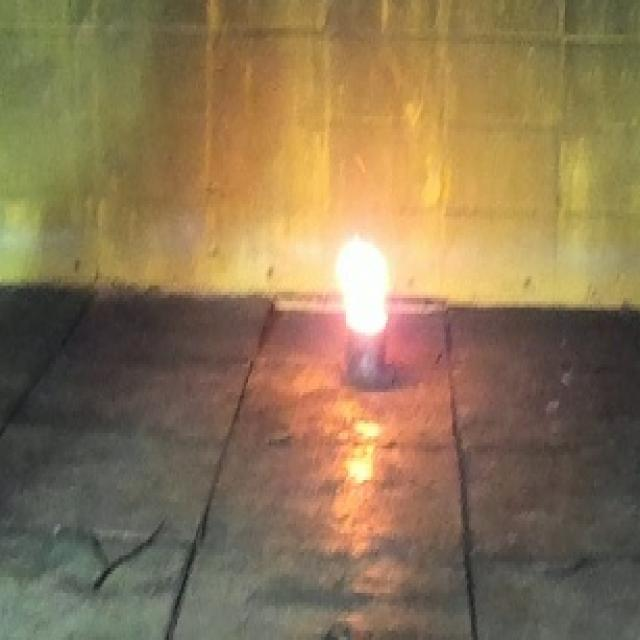Fire: (336, 233, 390, 337)
